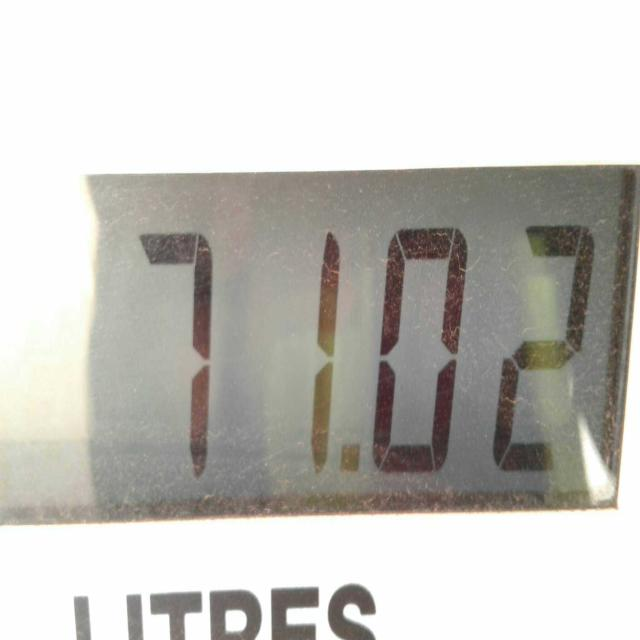.: (343, 445, 363, 479)
0: (381, 231, 472, 466)
1: (311, 235, 334, 478)
2: (492, 221, 592, 473)
7: (142, 232, 216, 483)
